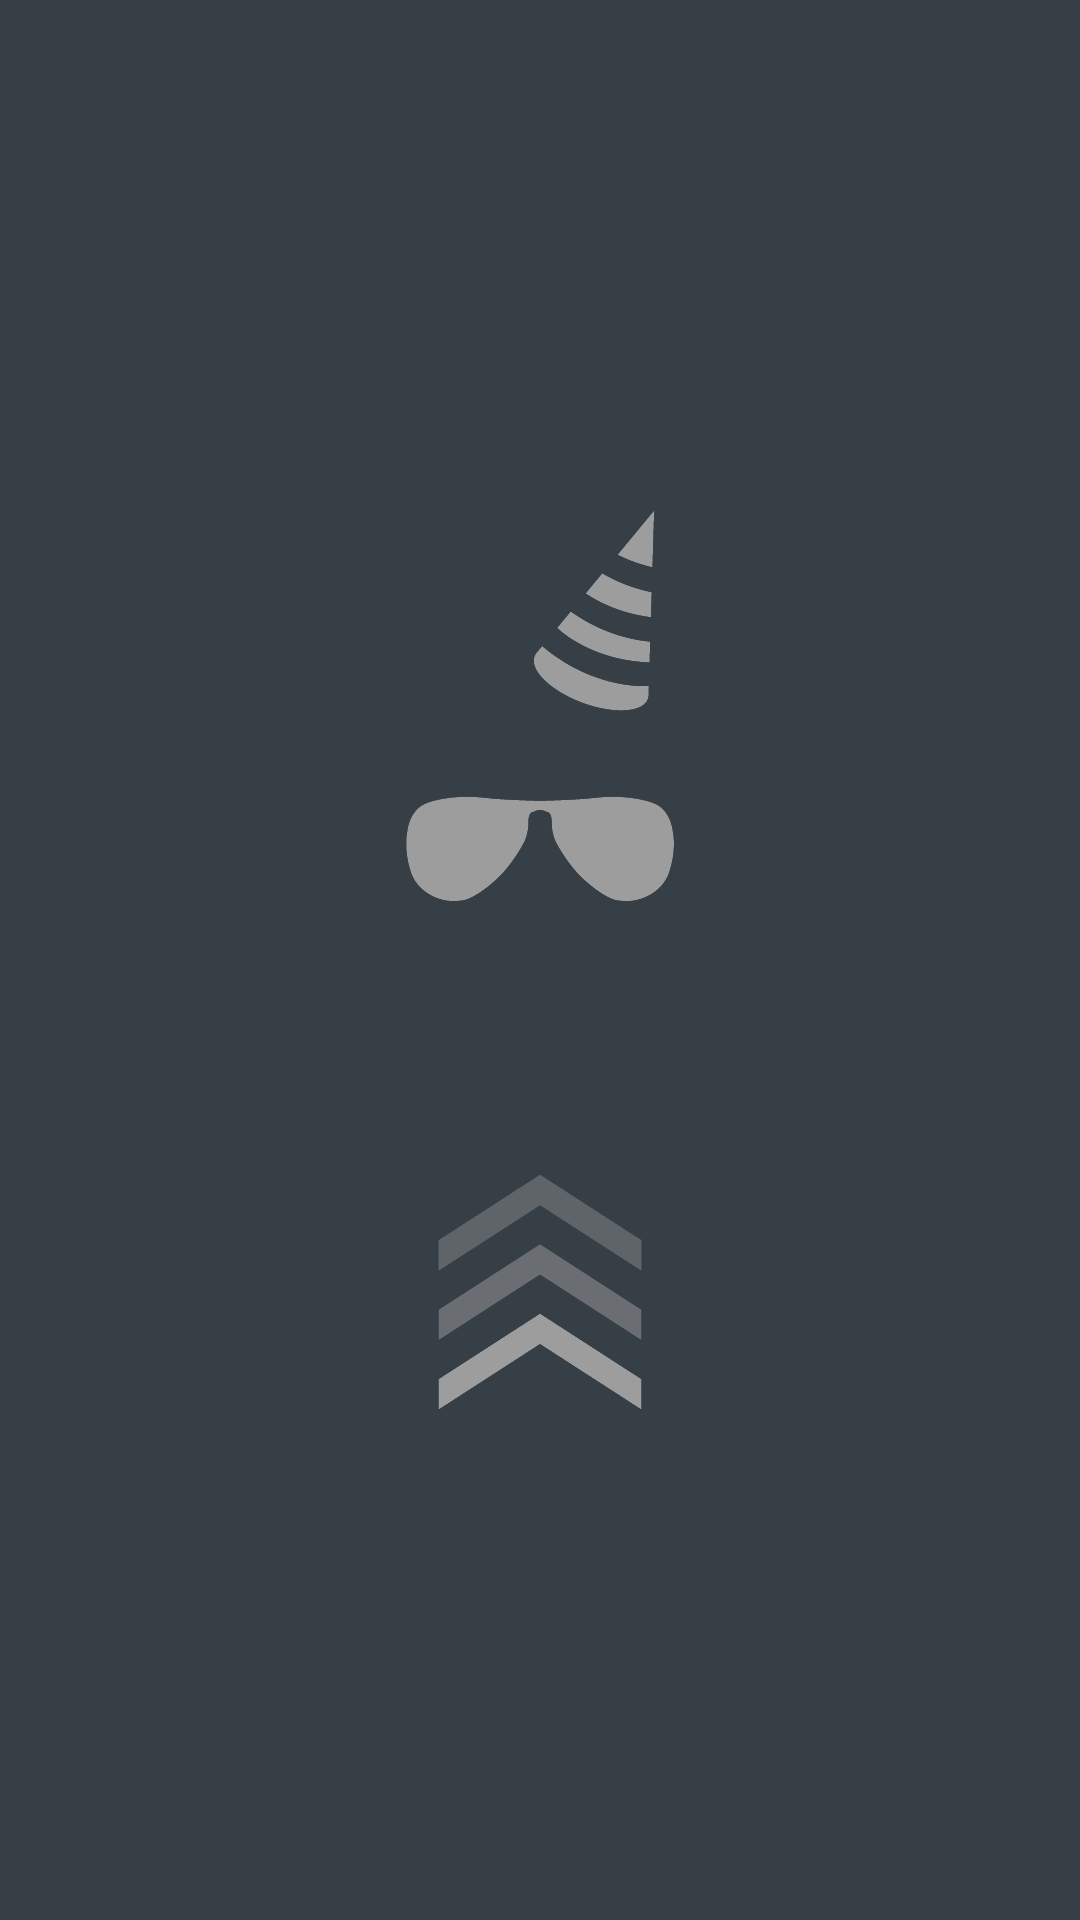

Icon bounding boxes for this 1080w x 1920h phone screenshot, format bbox=(x1, y1, x2, y2):
unlock slide arrows: bbox=(438, 1175, 642, 1409)
